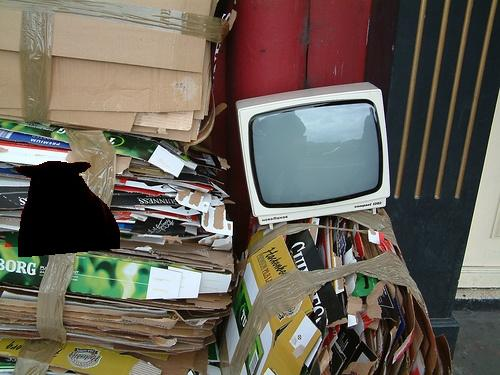tampered: (17, 162, 120, 257)
